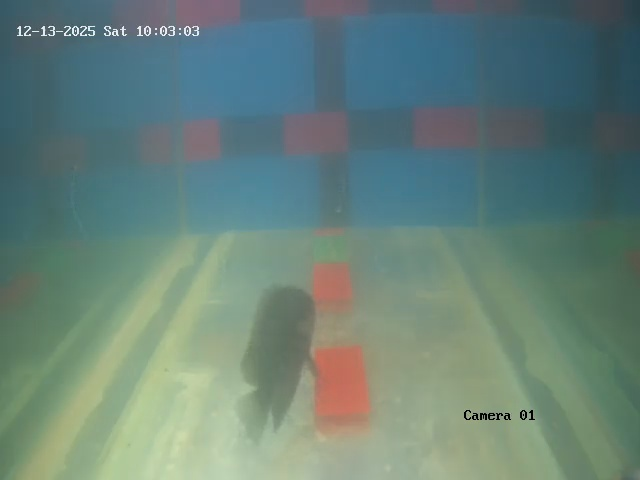fish: (238, 287, 319, 413)
